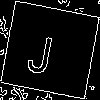J: (25, 25, 57, 76)
